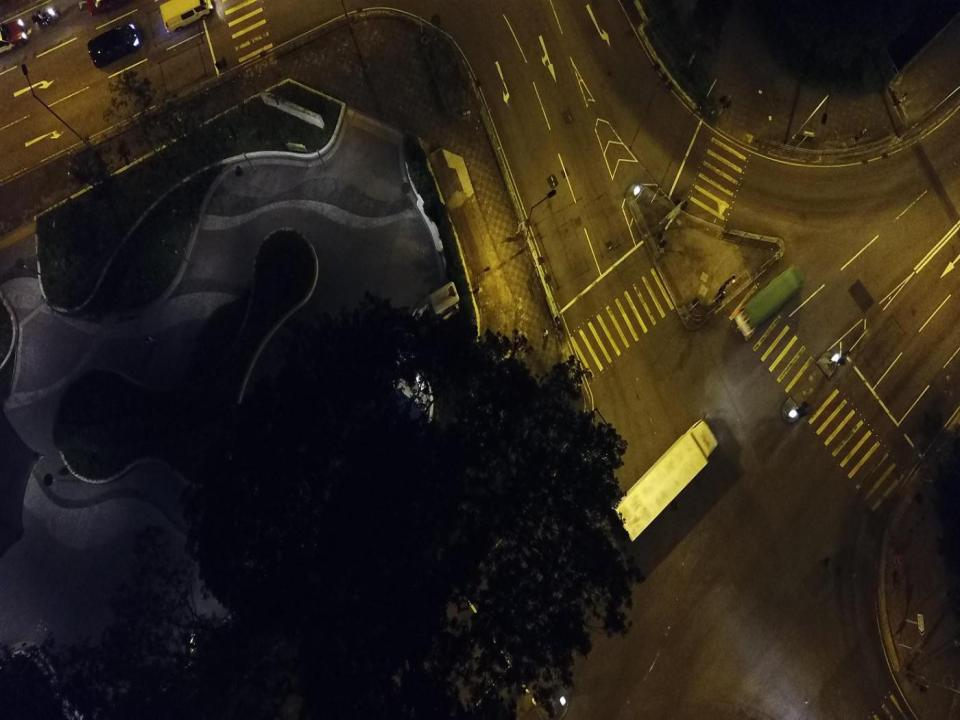bus: (732, 261, 805, 342)
car: (87, 22, 142, 68), (0, 18, 27, 55)
truck: (609, 419, 718, 544)
van: (159, 0, 214, 34)
